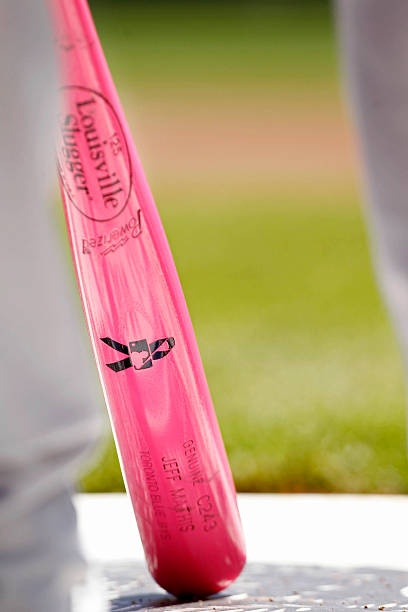bita: (50, 1, 243, 595)
